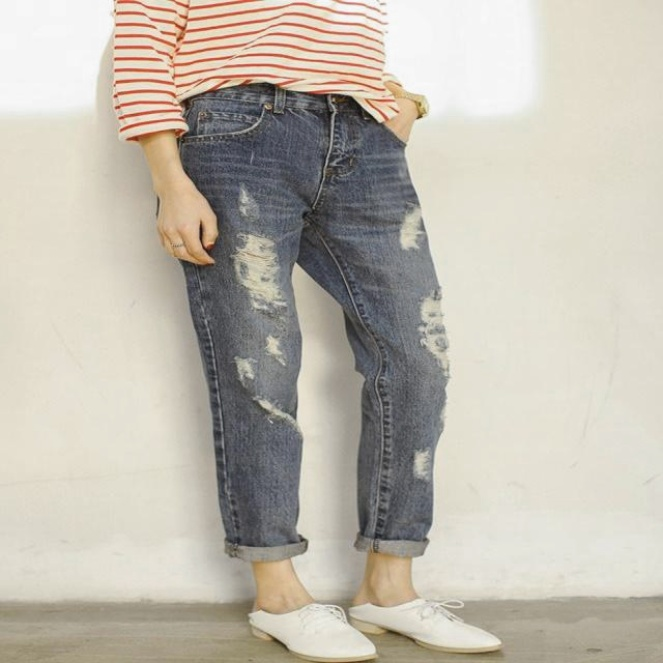ripped_pants: (147, 80, 464, 531)
